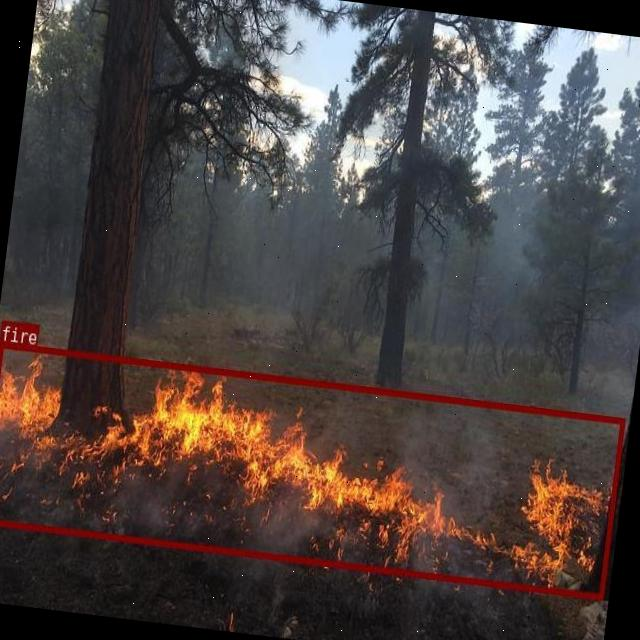fire: (0, 340, 624, 599)
